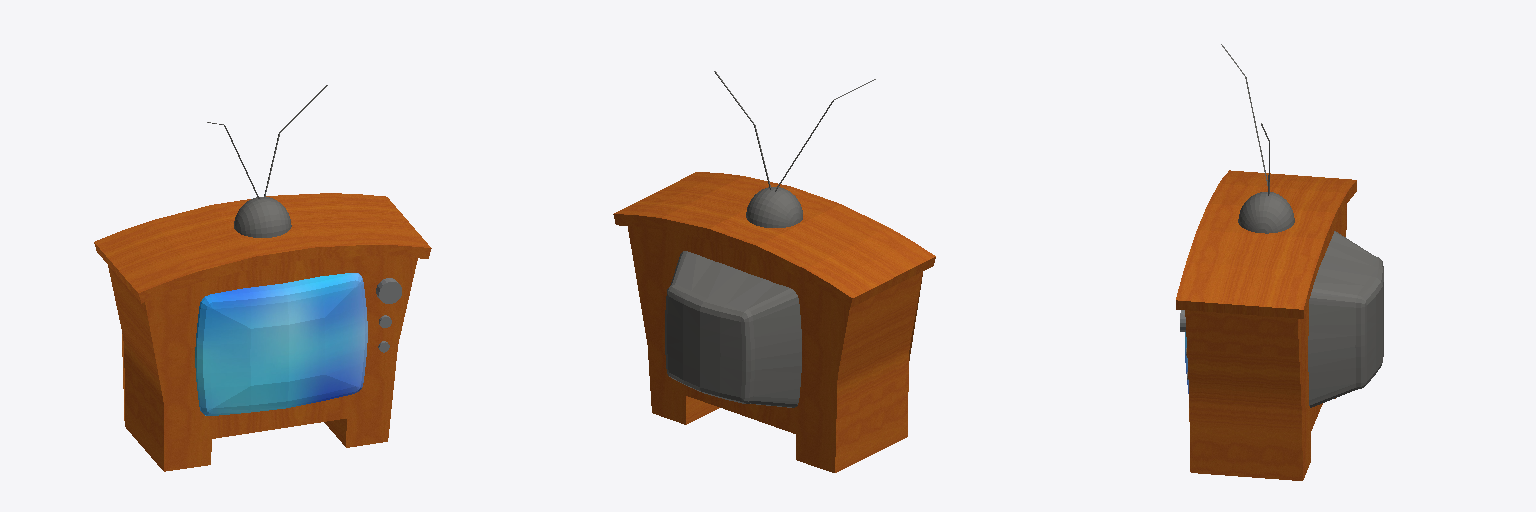
3 views of the same model, side by side, from view 1: azimuth 30°, elevation 25°; view 2: azimuth 150°, elevation 25°; view 3: azimuth 270°, elevation 25° (orthographic).
Visible parts, largest first — view 1: cenacompleta1:Model pasted__pasted__group pasted__group group pa, pasted__pasted__pasted__polySurface60 cenacompleta1:Model pasted; view 2: cenacompleta1:Model pasted__pasted__group pasted__group group pa, pasted__pasted__pasted__polySurface60 cenacompleta1:Model pasted; view 3: cenacompleta1:Model pasted__pasted__group pasted__group group pa, pasted__pasted__pasted__polySurface60 cenacompleta1:Model pasted.
Boxes of the visible parts, <box> form: cenacompleta1:Model pasted__pasted__group pasted__group group pa: <box>94,85,431,415</box>; pasted__pasted__pasted__polySurface60 cenacompleta1:Model pasted: <box>108,256,417,471</box>; cenacompleta1:Model pasted__pasted__group pasted__group group pa: <box>613,71,935,407</box>; pasted__pasted__pasted__polySurface60 cenacompleta1:Model pasted: <box>628,226,922,472</box>; cenacompleta1:Model pasted__pasted__group pasted__group group pa: <box>1176,44,1383,407</box>; pasted__pasted__pasted__polySurface60 cenacompleta1:Model pasted: <box>1185,205,1346,480</box>.
Bounding box in the file's own units: 0.7495 × 0.8738 × 0.4745.
Materials: 5 (4 with a texture image).